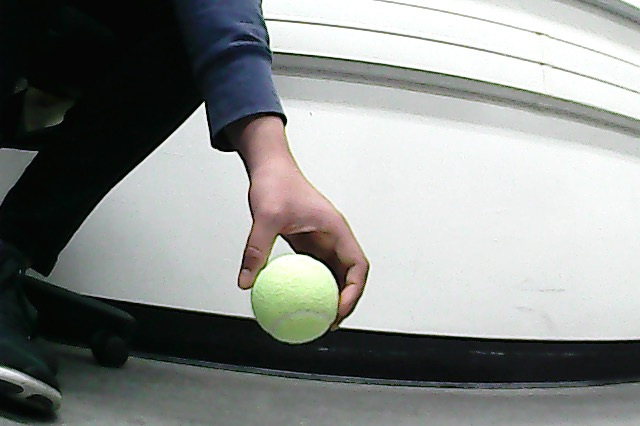ball: (250, 253, 342, 347)
